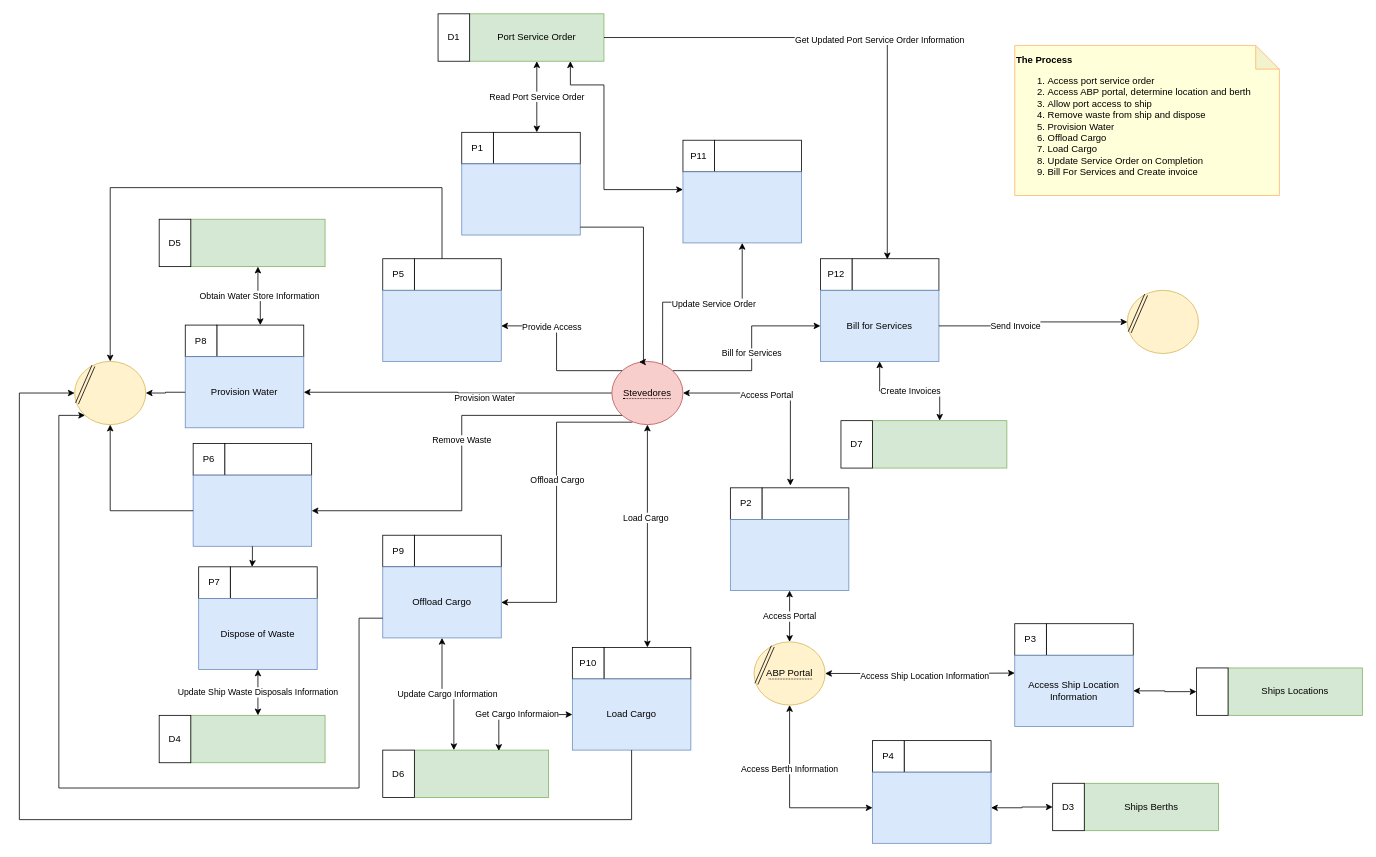
Some shapes in this 1376 by 857 pixel diagram are drawn without their labels. Here are the shapes that lost their labels. From the top down, the box of each, then its label:
(461, 163, 580, 235): Read Port Service Order Information
(682, 171, 801, 243): Update Service Order on Completion
(190, 218, 325, 267): Water Store Information
(382, 290, 501, 361): Provide Ship Access to Port
(1127, 290, 1198, 354): Ship Owner
(74, 361, 146, 425): Ship
(872, 420, 1007, 468): Invoices
(192, 474, 312, 546): Remove Waste From Ship
(730, 519, 849, 591): Access ABP Portal, Retrieve Ship Location and Berth Information
(1196, 667, 1228, 715): D2
(190, 715, 325, 763): Ship Waste Disposals
(414, 749, 549, 798): Cargo Location Information
(872, 771, 991, 843): Access Ship Berth Information
